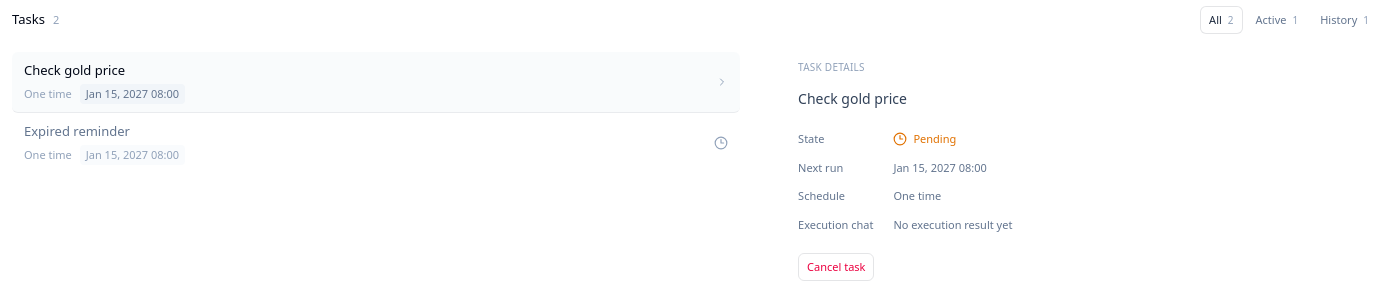
Test case: ChatScheduleBoard › shows skipped one-time tasks in history with their reason and allows dismissal
Expected: the button "History 1" is shown, x1=1311 y1=6 x2=1378 y2=34
Step 1. Click the button "Active 1" → point(1277, 20), box x1=1247 y1=6 x2=1307 y2=34
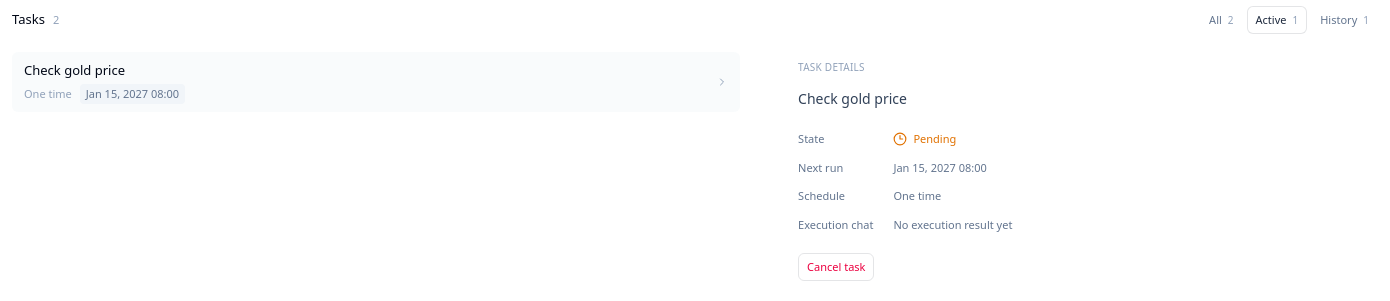
Expected: the text "Expired reminder" is gone
Step 2. Click the button "History 1" → point(1345, 20), box x1=1311 y1=6 x2=1378 y2=34
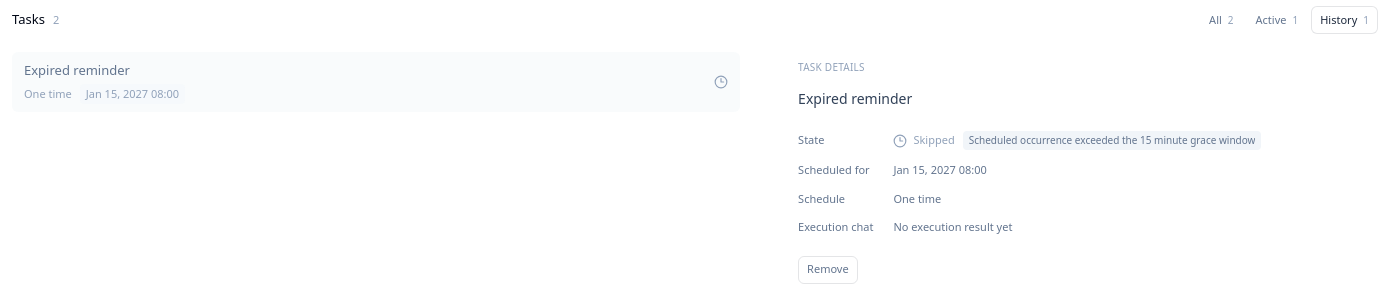
Expected: the button "Expired reminder One time Jan 15, 2027 08:00" is shown, x1=12 y1=52 x2=740 y2=112
Step 3. Click the button "Remove" → point(828, 270), box x1=798 y1=256 x2=858 y2=284
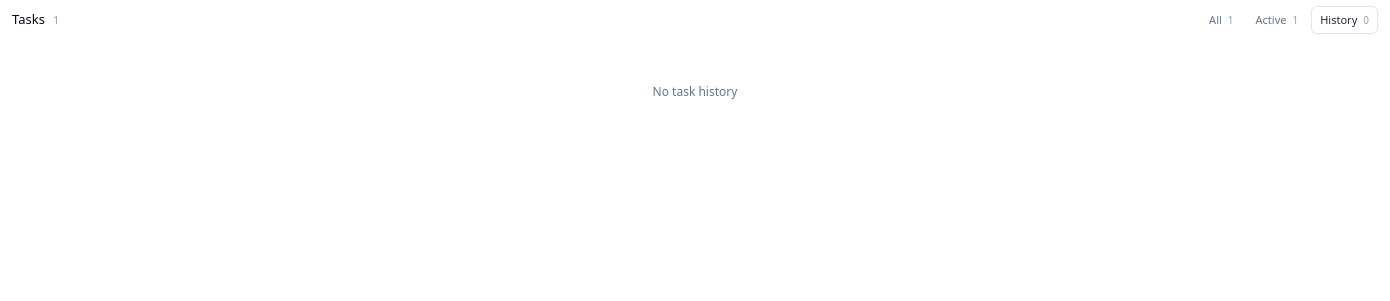
Expected: the text "No task history" is shown, x1=653 y1=83 x2=737 y2=100
